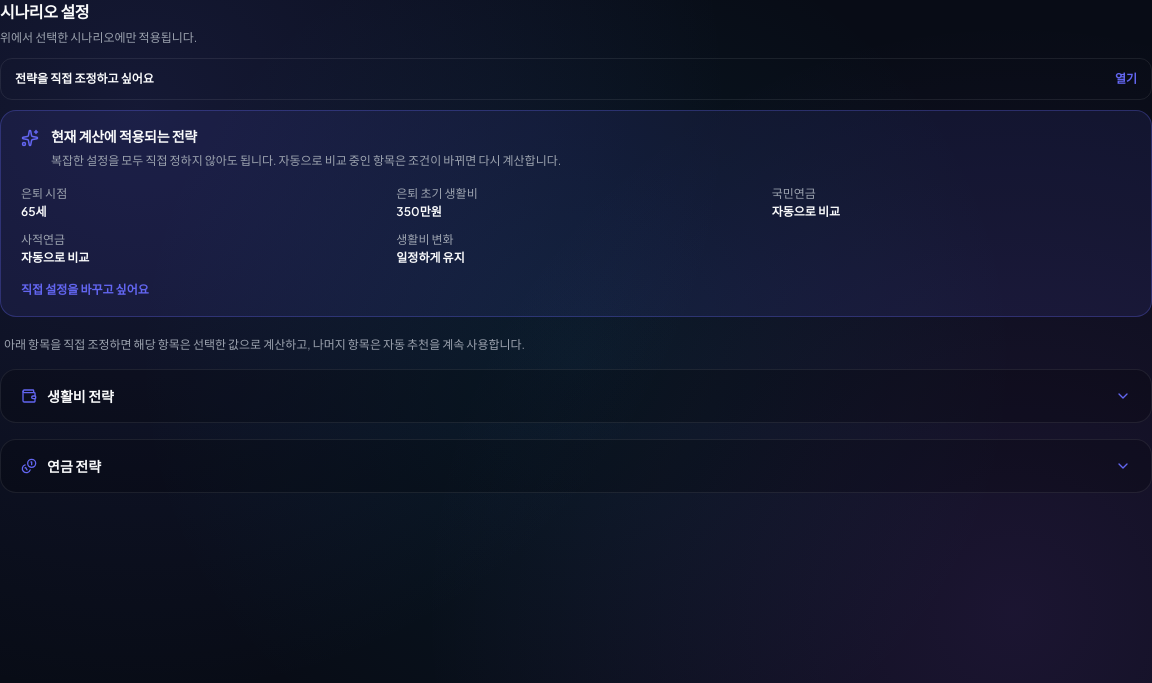
it: StrategySettingsPanel › 전략 모드 3개를 렌더링한다
The image size is (1152, 683).
Click the button "전략을 직접 조정하고 싶어요 열기" at (84, 78), box x1=0 y1=58 x2=1151 y2=100
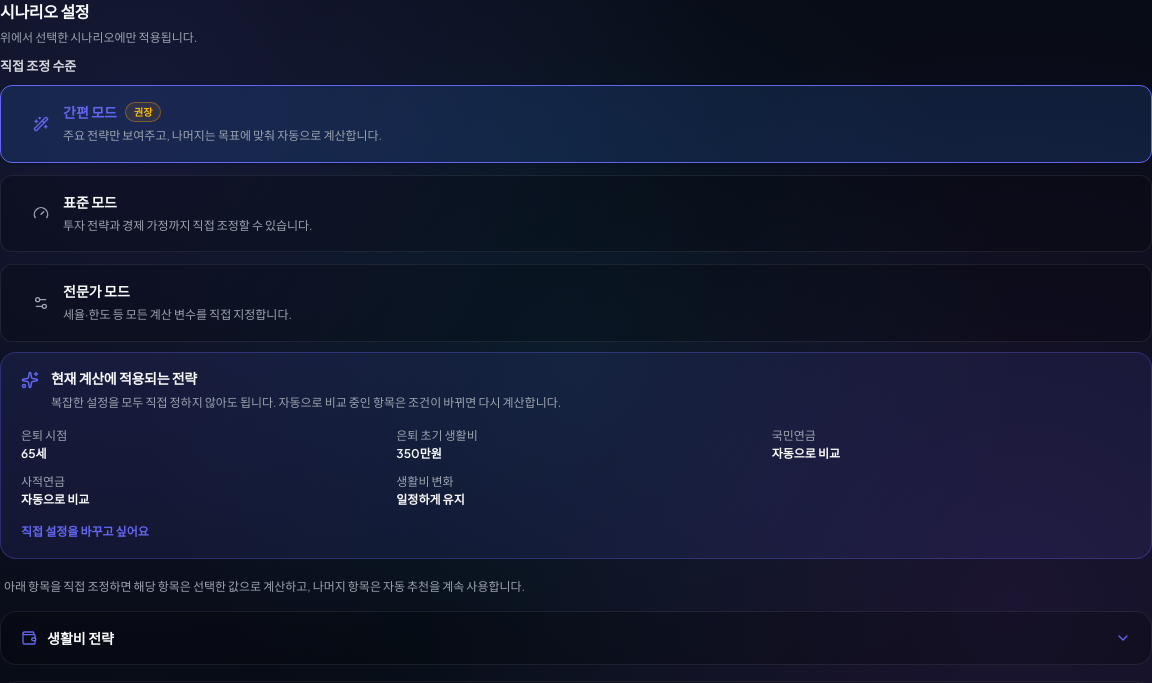
expect the radio button labelled "간편 모드 권장 주요 전략만 보여주고, 나머지는 목표에 맞춰 자동으로 계산합니다." is shown: met, box x1=0 y1=85 x2=1151 y2=163
expect the radio button labelled "표준 모드 투자 전략과 경제 가정까지 직접 조정할 수 있습니다." is shown: met, box x1=0 y1=175 x2=1151 y2=252
expect the radio button labelled "전문가 모드 세율·한도 등 모든 계산 변수를 직접 지정합니다." is shown: met, box x1=0 y1=264 x2=1151 y2=342
